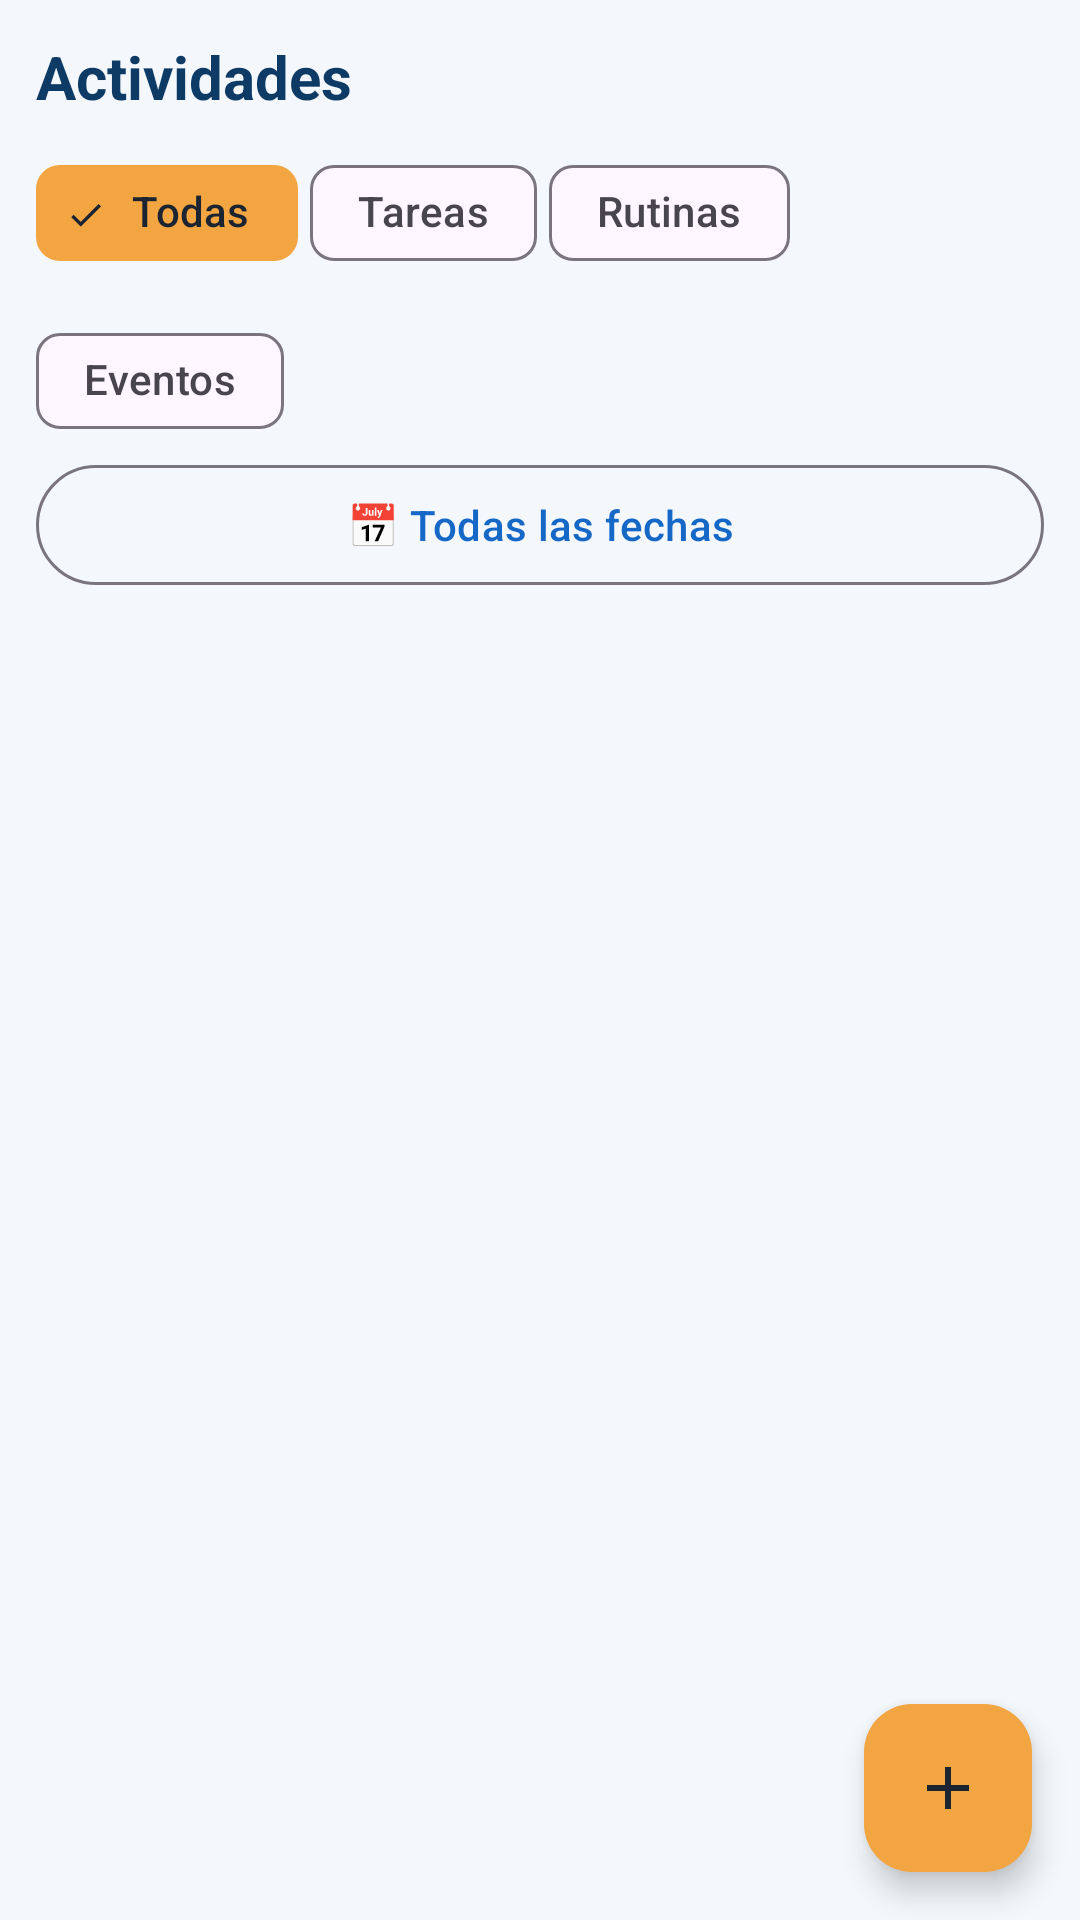

Icon bounding boxes for this 1080 × 1920 phone screenshot, format (x1, y1, x2, y2):
Agregar: (864, 1704, 1032, 1872)
